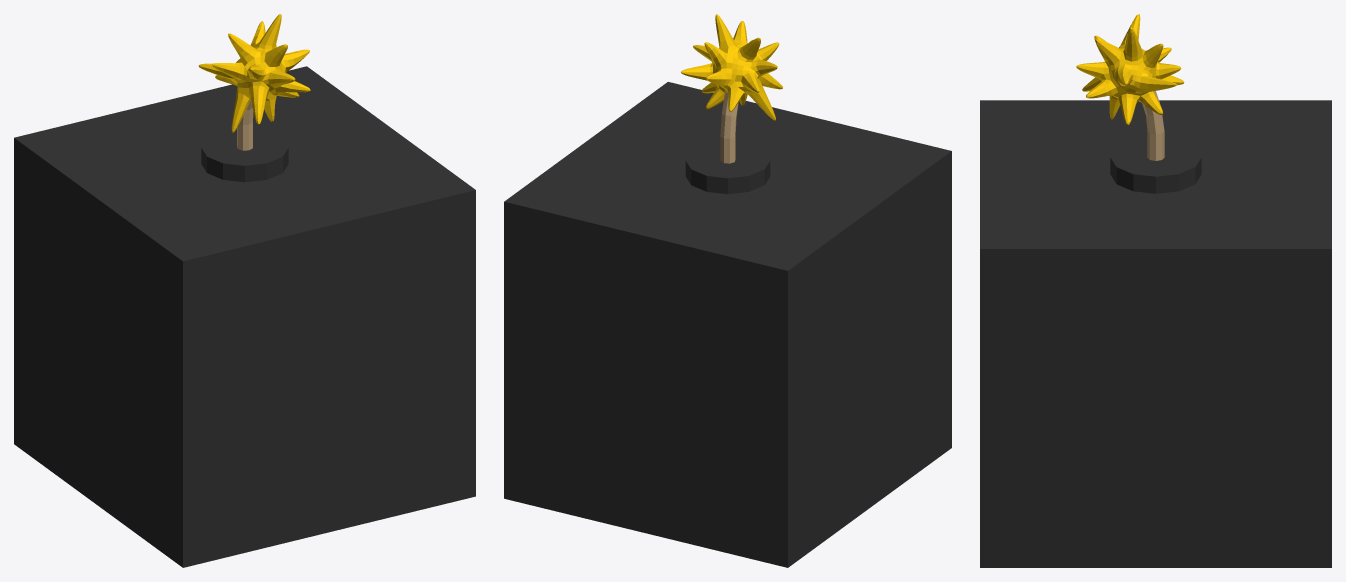
The model's file is bomb.fbx.
3 renders of one model, left to right at view 1: azimuth 30°, elevation 25°; view 2: azimuth 150°, elevation 25°; view 3: azimuth 270°, elevation 25°, orthographic. The views are drawn at different scales.
Parts seen in each view (by area): view 1: bomb; view 2: bomb; view 3: bomb.
Part boxes in pixels (x1,y1,x2,y2): bomb: [14, 14, 475, 567]; bomb: [504, 14, 951, 567]; bomb: [980, 14, 1331, 567].
Bounding box in the file's own units: 200 × 300 × 200.
